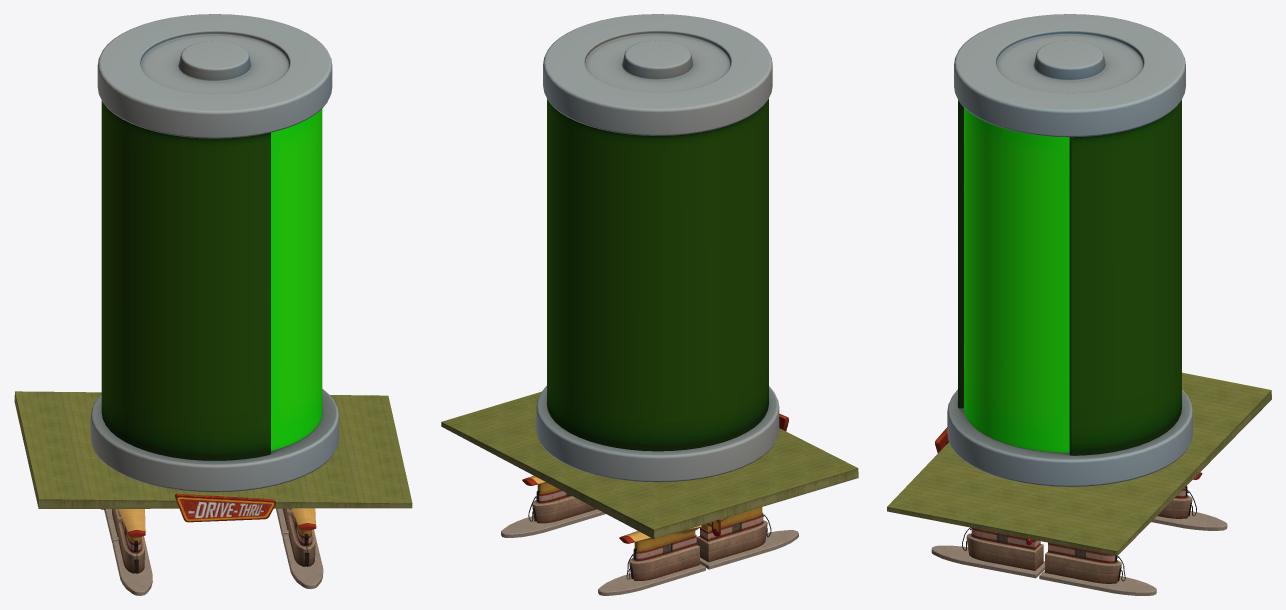
File: asset10.glb
3 views of the same model, side by side, from view 1: azimuth 30°, elevation 25°; view 2: azimuth 150°, elevation 25°; view 3: azimuth 270°, elevation 25° (orthographic). The views are drawn at different scales.
Parts seen in each view (by area): view 1: node_id48, node_id37, node_id35, node_id33; view 2: node_id48, node_id37, node_id35, node_id33; view 3: node_id48, node_id37, node_id35, node_id33.
Boxes of the visible parts, x1,y1,x2,y2 form: node_id48: [90, 14, 338, 492]; node_id37: [15, 391, 412, 503]; node_id35: [14, 392, 412, 573]; node_id33: [104, 508, 323, 595]; node_id48: [536, 14, 779, 482]; node_id37: [441, 391, 857, 529]; node_id35: [441, 413, 858, 580]; node_id33: [501, 509, 798, 595]; node_id48: [947, 14, 1192, 486]; node_id37: [887, 372, 1271, 551]; node_id35: [887, 390, 1271, 583]; node_id33: [931, 511, 1227, 595].
Size of the model in its own units: 0.538 by 0.649 by 0.4675.
Materials: 7 (7 with a texture image).
